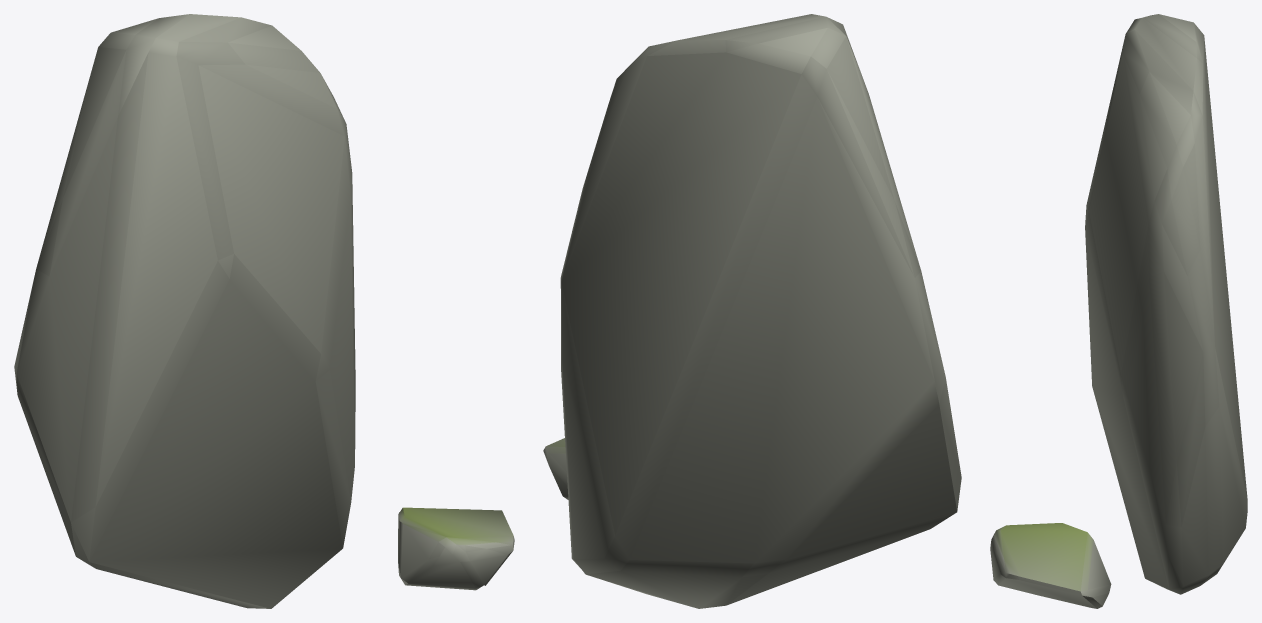
Rendered from path-rock-slab.glb.
3 renders of one model, left to right at view 1: azimuth 30°, elevation 25°; view 2: azimuth 150°, elevation 25°; view 3: azimuth 270°, elevation 25°, orthographic. The views are drawn at different scales.
Parts seen in each view (by area): view 1: path-rock-slab; view 2: path-rock-slab; view 3: path-rock-slab.
Boxes of the visible parts, left/top/right/bottom form: path-rock-slab: left=14, top=14, right=514, bottom=608; path-rock-slab: left=543, top=14, right=961, bottom=608; path-rock-slab: left=990, top=14, right=1247, bottom=608.
Bounding box in the file's own units: 0.4575 × 0.5982 × 0.2722.
